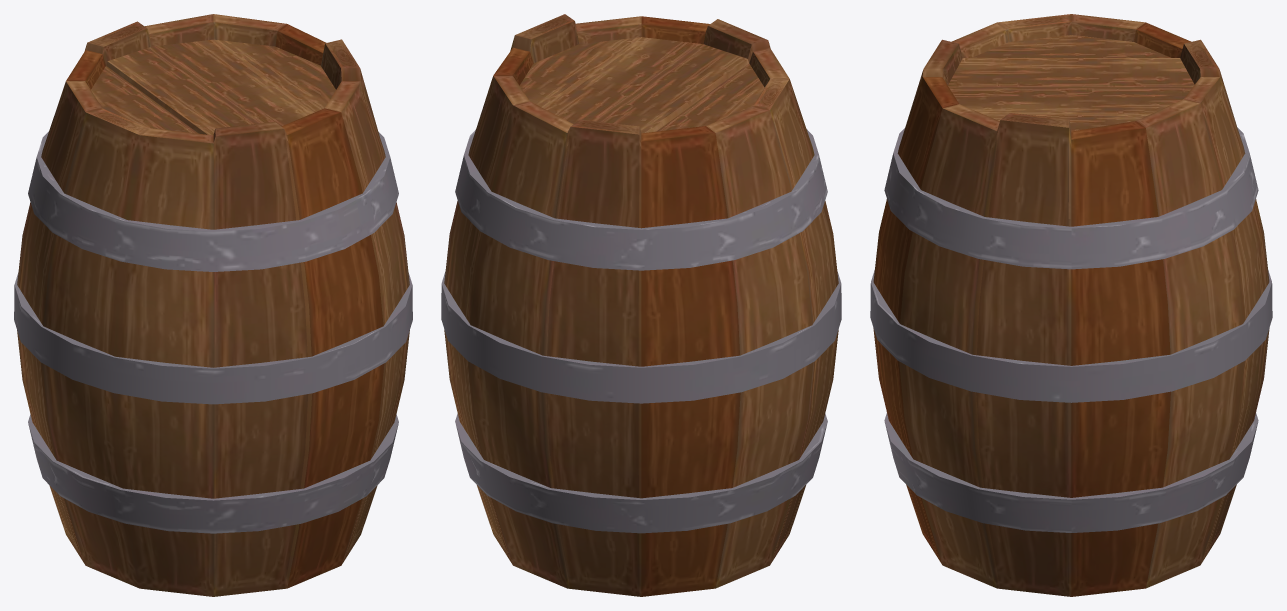
File: Barrel.gltf
3 views of the same model, side by side, from view 1: azimuth 30°, elevation 25°; view 2: azimuth 150°, elevation 25°; view 3: azimuth 270°, elevation 25° (orthographic).
Visible parts, largest first — view 1: Barrel; view 2: Barrel; view 3: Barrel.
Boxes of the visible parts, x1,y1,x2,y2 form: Barrel: [14, 14, 412, 596]; Barrel: [441, 14, 841, 596]; Barrel: [870, 14, 1272, 596].
Bounding box in the file's own units: 0.698 × 0.898 × 0.698.
Materials: 2 (2 with a texture image).
